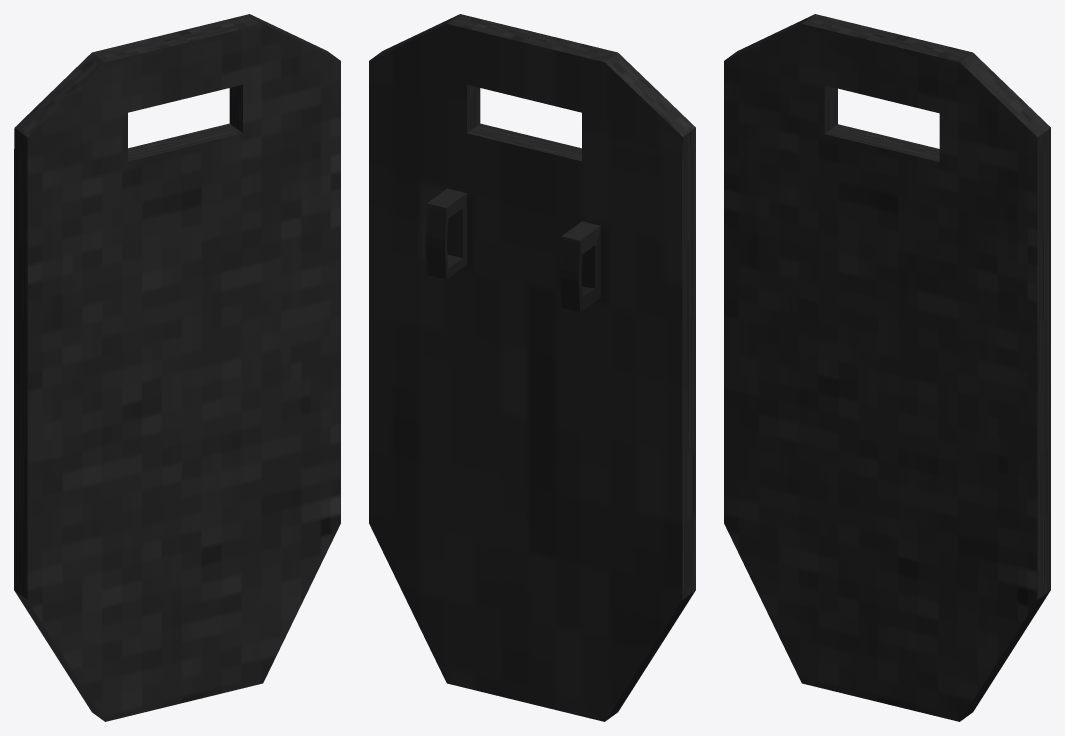
The model's file is Riot Shield 1.fbx.
3 views of the same model, side by side, from view 1: azimuth 30°, elevation 25°; view 2: azimuth 150°, elevation 25°; view 3: azimuth 330°, elevation 25° (orthographic).
Parts seen in each view (by area): view 1: Cube; view 2: Cube; view 3: Cube.
Part boxes in pixels (box(x1,y1,x2,y2)): Cube: box(14, 14, 340, 721); Cube: box(369, 14, 695, 721); Cube: box(724, 14, 1050, 721).
Size of the model in its own units: 115 by 232 by 22.63.
Materials: 1 (1 with a texture image).
